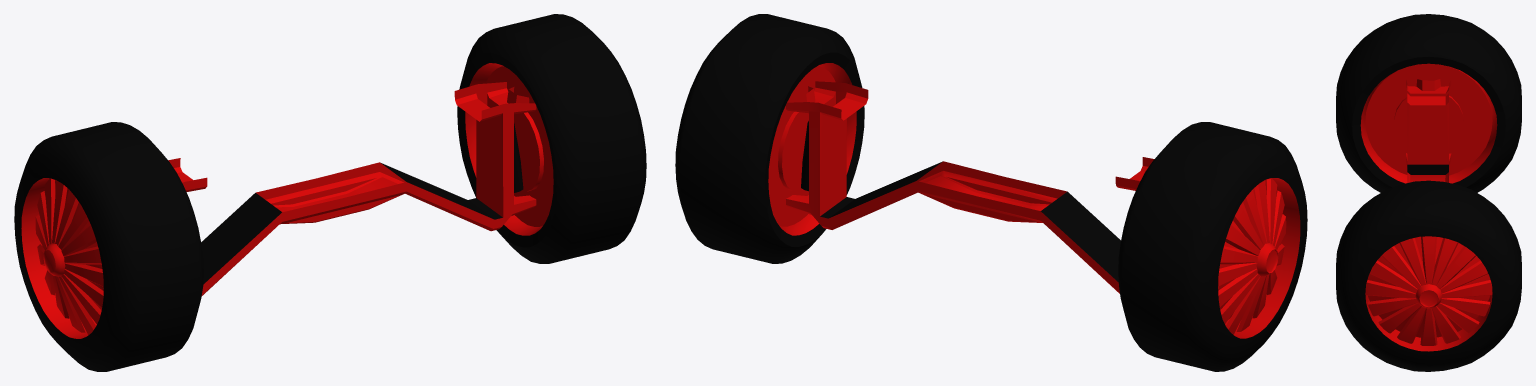
File: FrontWheels.fbx
3 renders of one model, left to right at view 1: azimuth 30°, elevation 25°; view 2: azimuth 150°, elevation 25°; view 3: azimuth 270°, elevation 25°, orthographic. The views are drawn at different scales.
Parts seen in each view (by area): view 1: FrontWheels; view 2: FrontWheels; view 3: FrontWheels.
Part boxes in pixels (x1=…): FrontWheels: x1=14, y1=14, x2=646, y2=371; FrontWheels: x1=675, y1=14, x2=1307, y2=371; FrontWheels: x1=1336, y1=14, x2=1521, y2=371.
Size of the model in its own units: 1.78 by 0.6605 by 0.6605.
